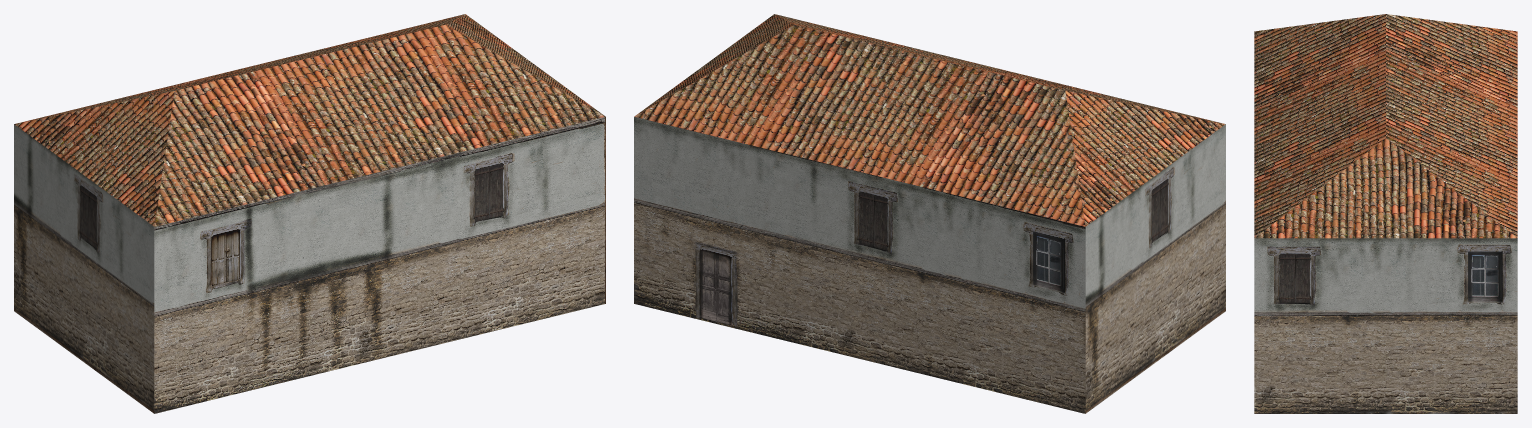
The model's file is simplehouse.fbx.
3 views of the same model, side by side, from view 1: azimuth 30°, elevation 25°; view 2: azimuth 150°, elevation 25°; view 3: azimuth 270°, elevation 25° (orthographic). The views are drawn at different scales.
Parts seen in each view (by area): view 1: Model; view 2: Model; view 3: Model.
Boxes of the visible parts, bbox=[...] form: Model: bbox=[14, 14, 605, 413]; Model: bbox=[634, 14, 1225, 413]; Model: bbox=[1254, 14, 1517, 413].
Size of the model in its own units: 8007 by 4233 by 4312.
